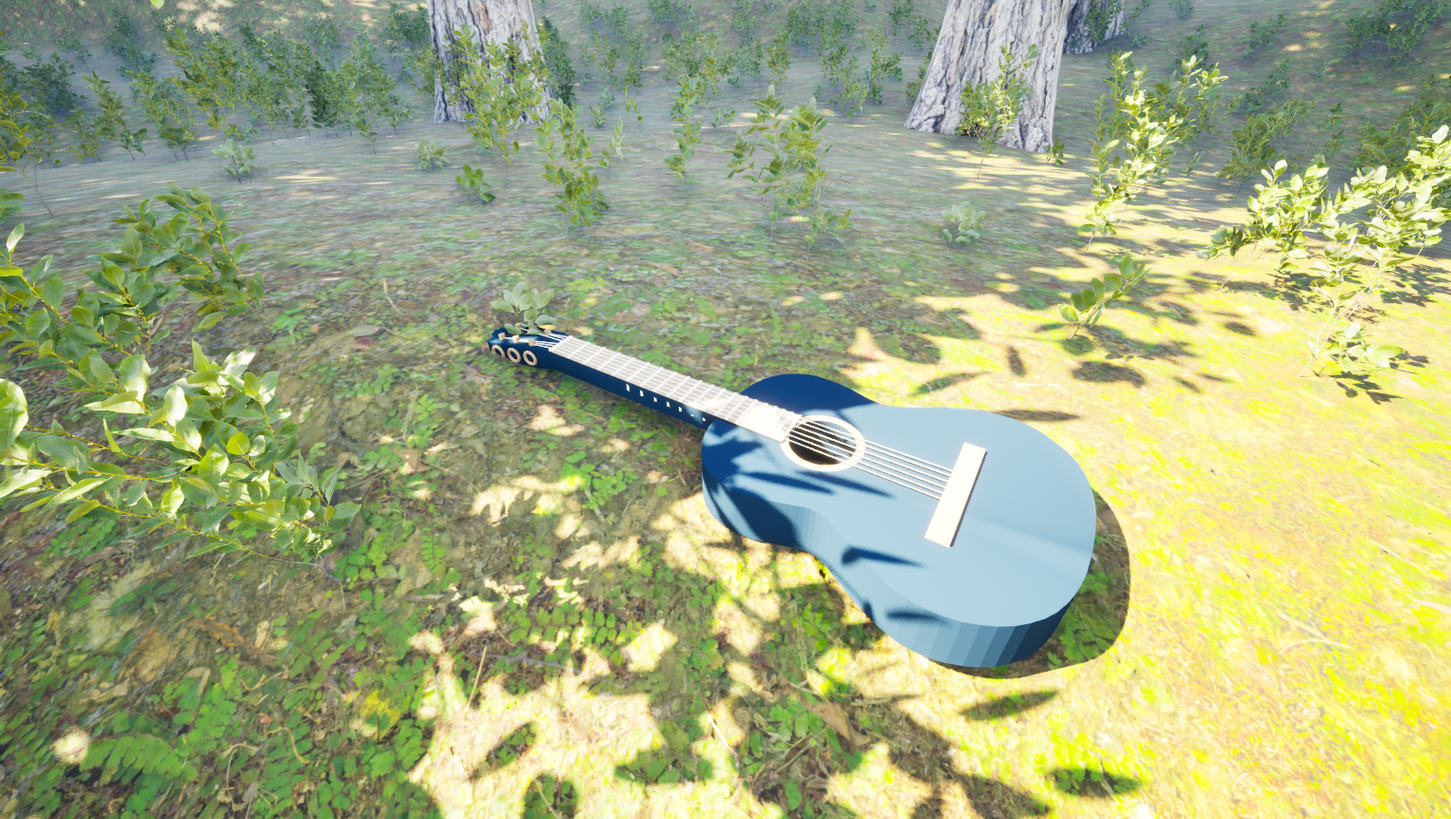Guitar: (398, 278, 1110, 716)
